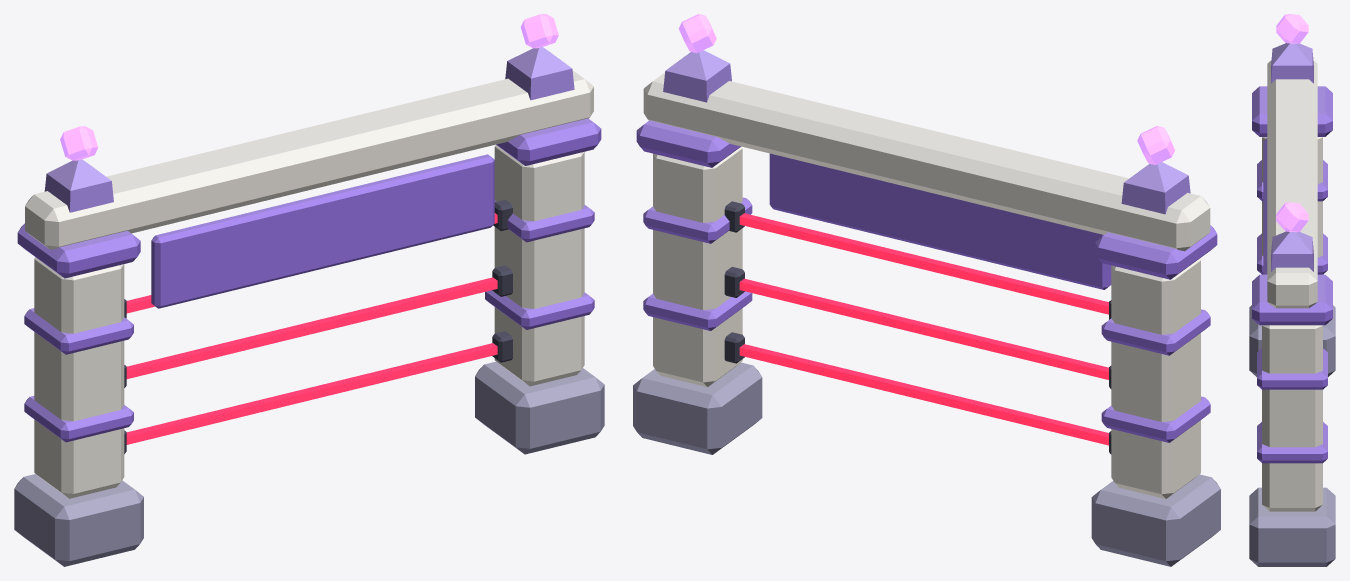
Rendered from Gate_5.glb.
3 views of the same model, side by side, from view 1: azimuth 30°, elevation 25°; view 2: azimuth 150°, elevation 25°; view 3: azimuth 270°, elevation 25° (orthographic). The views are drawn at different scales.
Visible parts, largest first — view 1: Gate_5, Gate_5_Glow_laser, Gate_5_Glow_acc5; view 2: Gate_5, Gate_5_Glow_laser, Gate_5_Glow_acc5; view 3: Gate_5, Gate_5_Glow_acc5.
Boxes of the visible parts, box(x1,y1,x2,y2) form: Gate_5: box(14, 47, 604, 566); Gate_5_Glow_laser: box(126, 213, 497, 444); Gate_5_Glow_acc5: box(60, 14, 558, 160); Gate_5: box(633, 50, 1220, 566); Gate_5_Glow_laser: box(739, 213, 1108, 445); Gate_5_Glow_acc5: box(678, 14, 1175, 164); Gate_5: box(1249, 43, 1335, 566); Gate_5_Glow_acc5: box(1276, 14, 1308, 232).
Bounding box in the file's own units: 21 × 15.25 × 3.4.
Materials: 3 (1 with a texture image).
